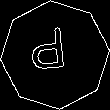P_S: (34, 28, 76, 82)
